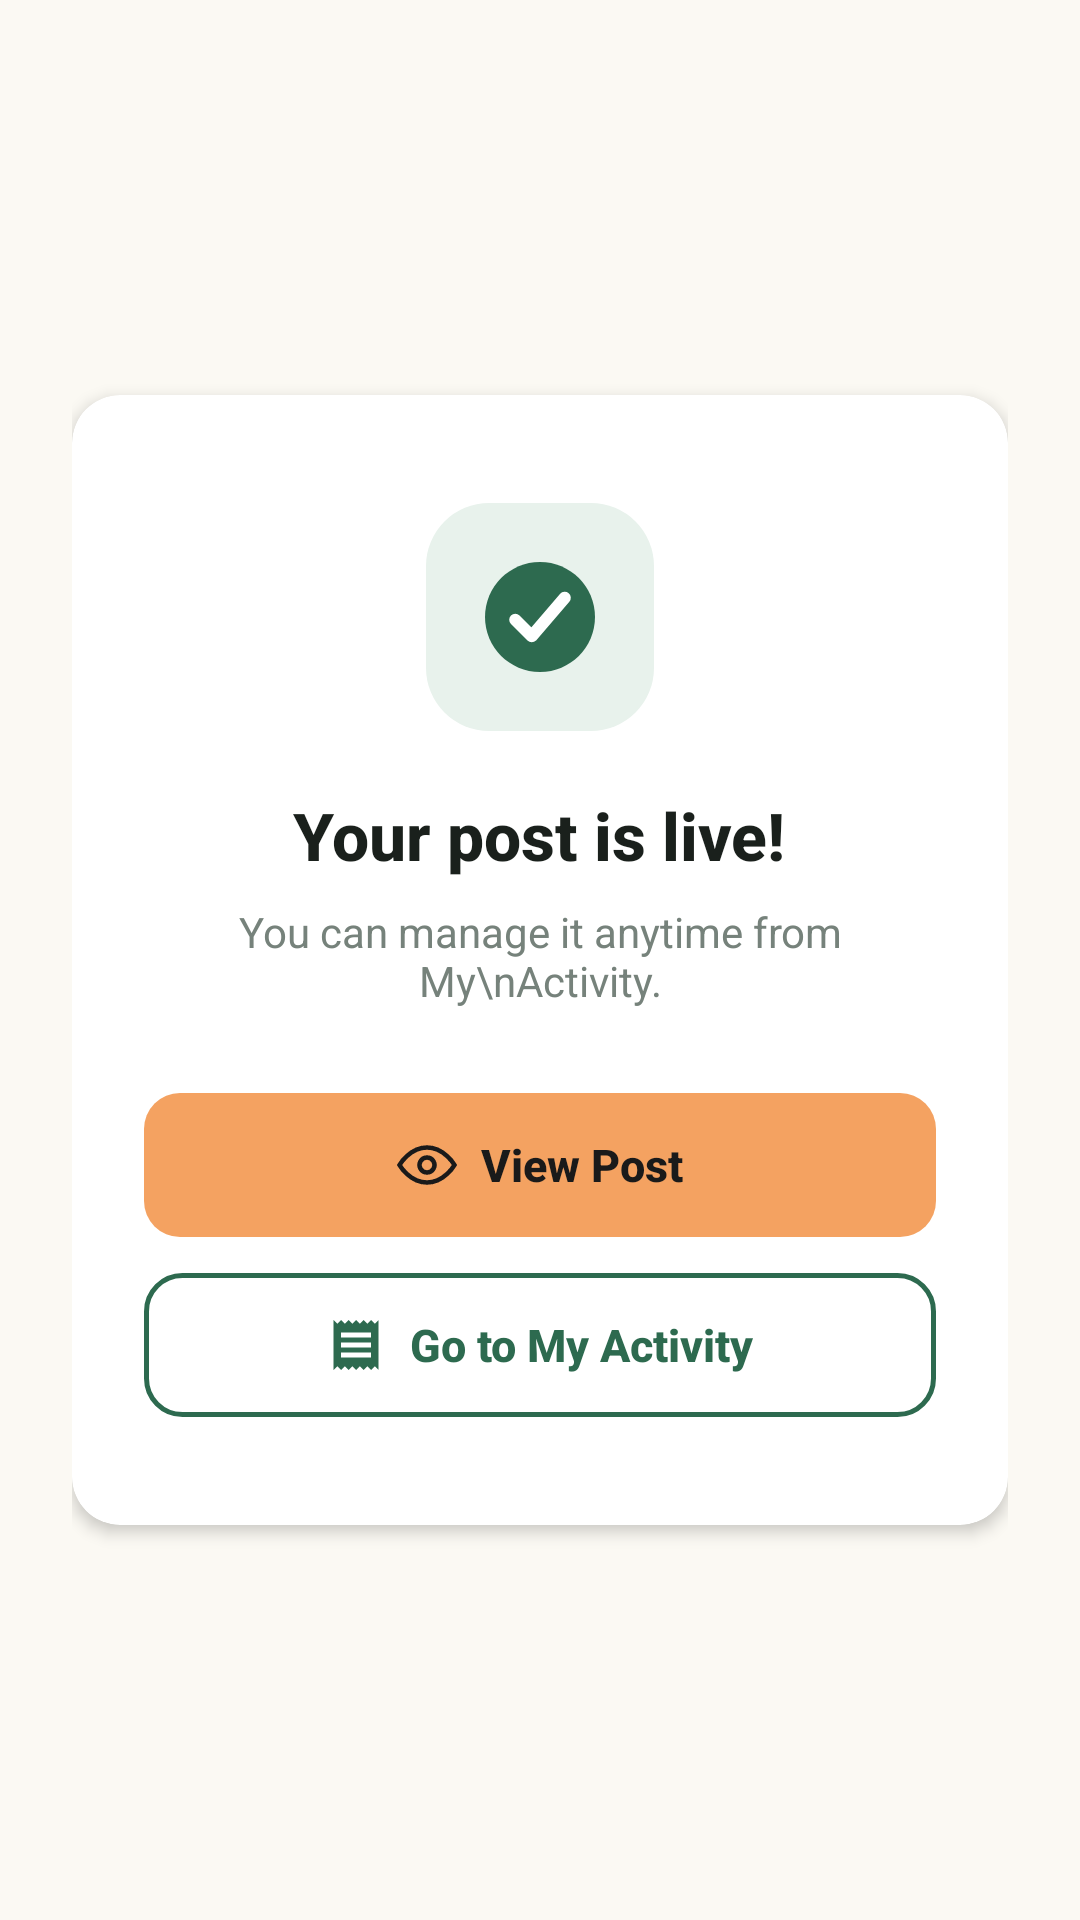

Icon click points for this 1080x1920 phone screenshot, format [x,y]:
check circle: [540,617]
eye: [427,1165]
